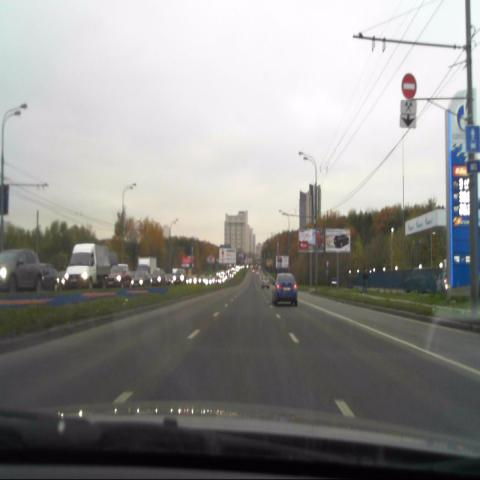5_14: (464, 127, 480, 154)
